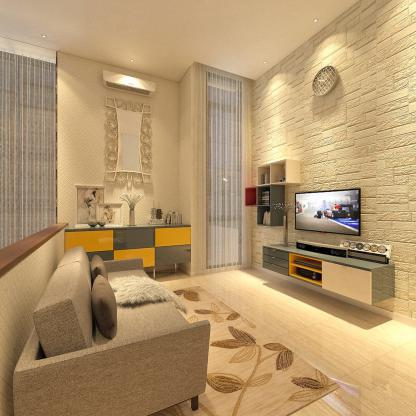meja: (259, 240, 398, 306)
sova: (16, 248, 214, 415)
